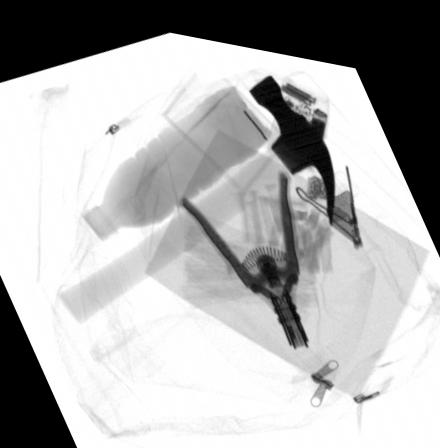Hammer: (56, 63, 335, 321)
Pliers: (181, 159, 312, 338)
